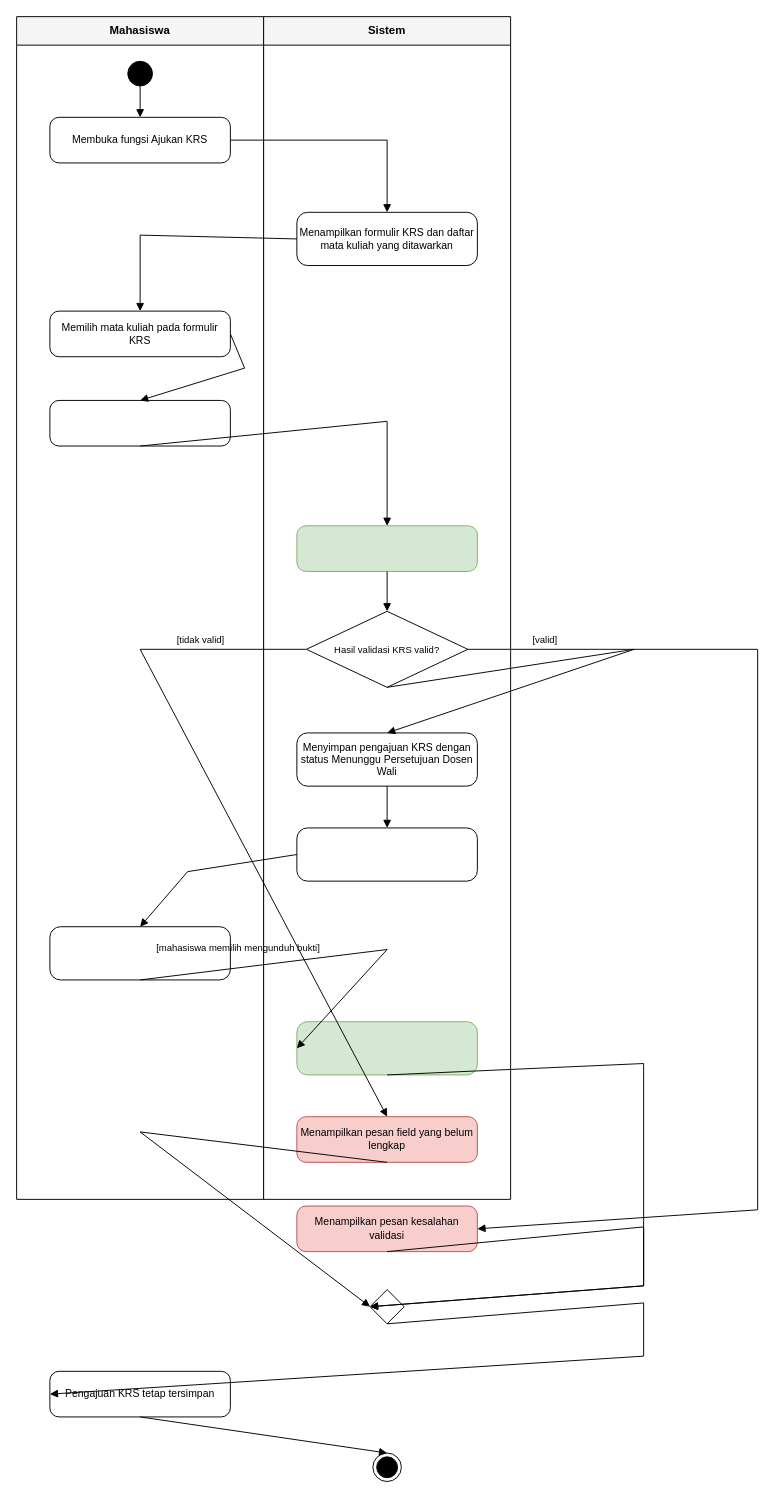
This 782x1498 diagram has some shape labels left out. The shapes that lost their labels are listed below. From the top down, each one's centre as x and y in pixels, then its label:
At point (139, 422): "Mengirim pengajuan KRS".
At point (386, 548): "Menjalankan Validasi KRS (SIA-UC04)".
At point (386, 854): "Menampilkan konfirmasi penyimpanan beserta pilihan unduh bukti".
At point (139, 953): "Memilih Unduh Bukti Pengajuan KRS pada konfirmasi".
At point (386, 1048): "Menjalankan Unduh Bukti Pengajuan KRS (SIA-UC05)".
